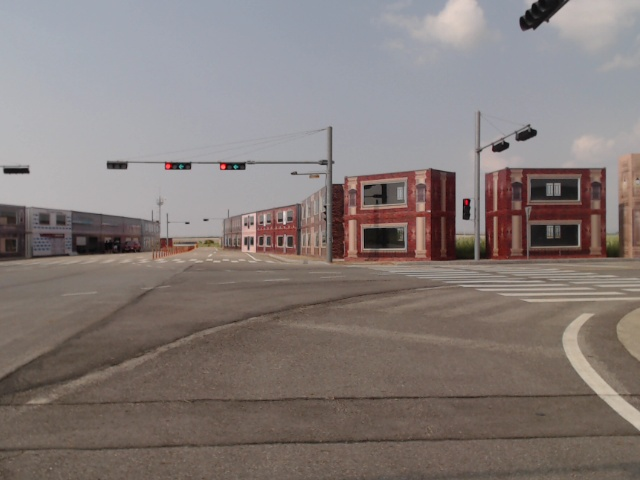left_green_4: (165, 163, 192, 170), (220, 163, 246, 170)
